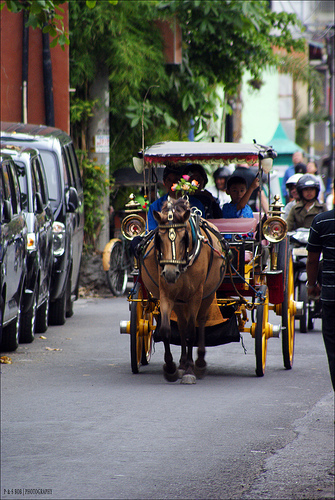horse: (138, 193, 226, 384)
